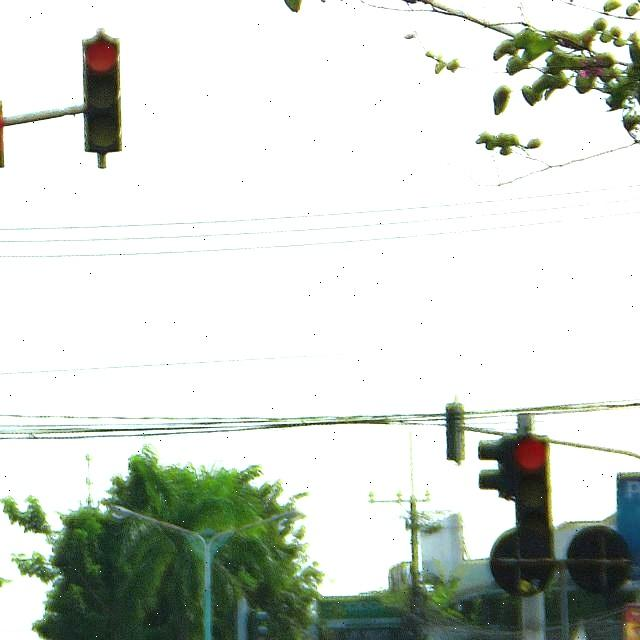Red: (489, 399, 580, 594), (68, 13, 134, 184)
